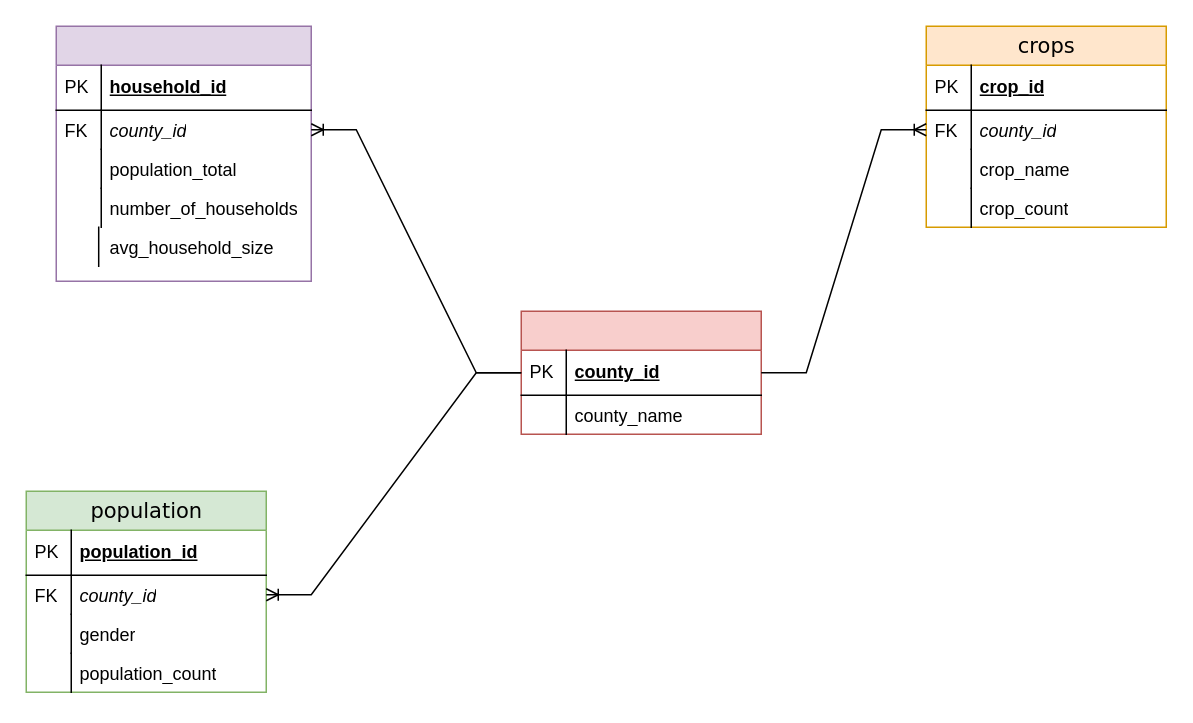
The diagram is 1193 pixels wide and 723 high, and some of its shapes have lost their labels. Here are the shapes that lost their labels. From the top down, the box of each, then its label:
(55, 25, 311, 281): household_stats
(520, 310, 761, 434): counties
